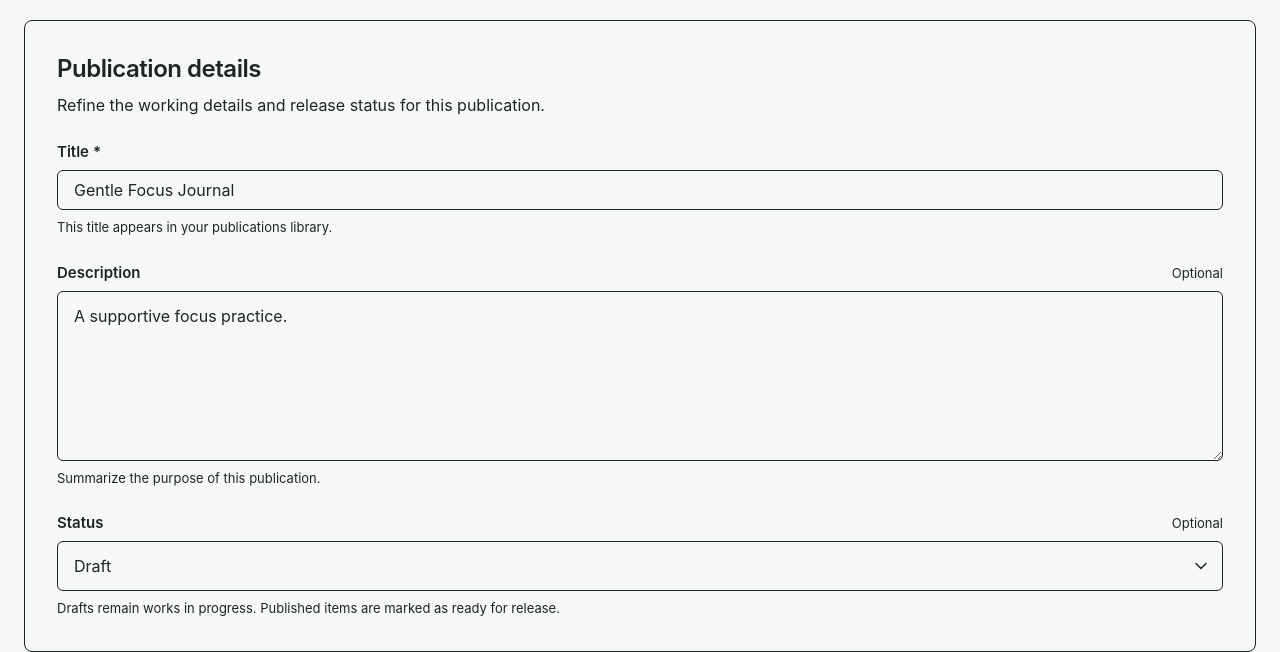
Test case: PublicationEditorPage › requires a title before saving
The width and height of the screenshot is (1280, 652).
Clear the field labelled "Title *": {"x": 640, "y": 190} [74,178,1206,202]
(page scrolled)
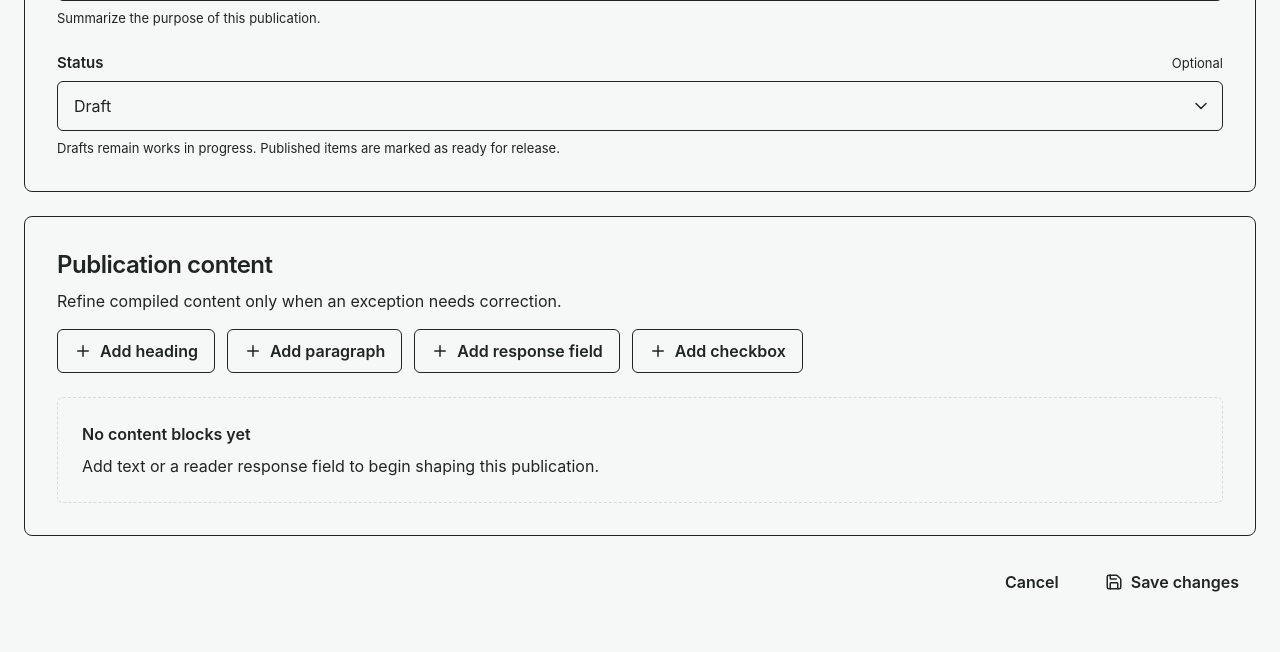
Click the button "Save changes": {"x": 1172, "y": 582} [1088,560,1256,604]
(page scrolled)
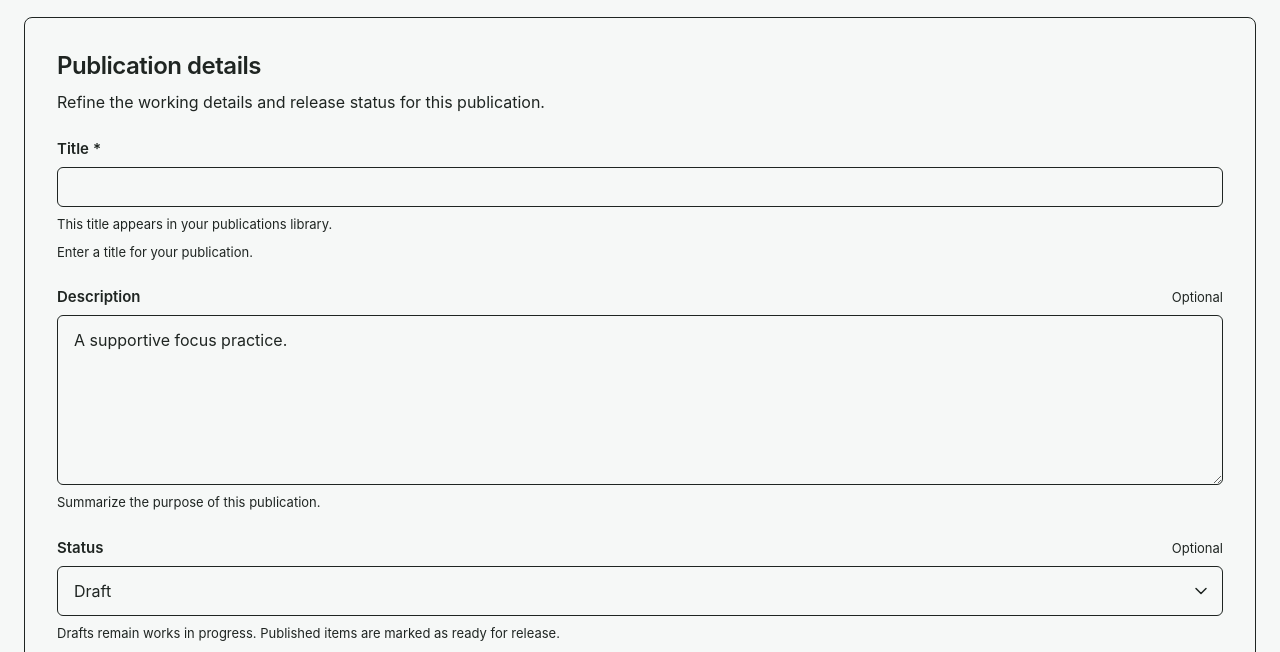
expect the text "Enter a title for your publication." is shown: met, box [57,244,253,260]
